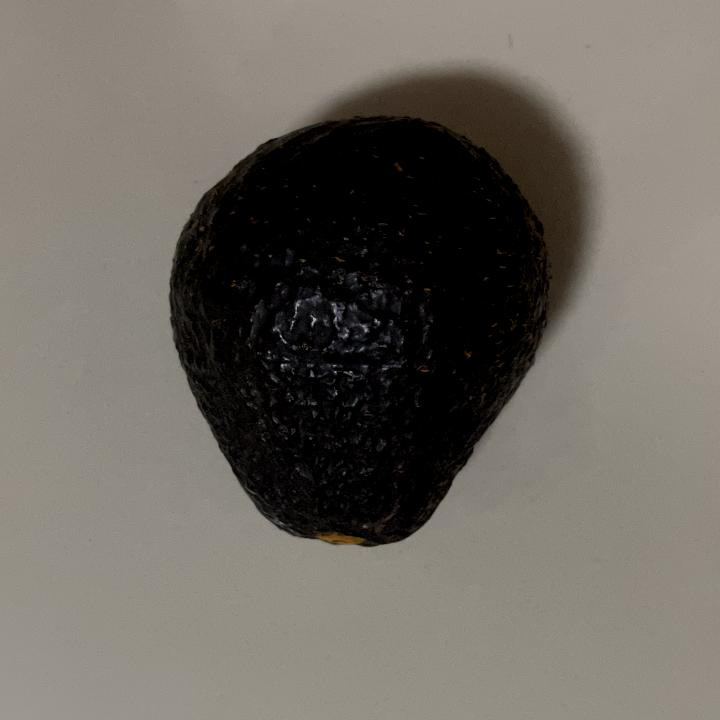Level3: (154, 107, 560, 560)
